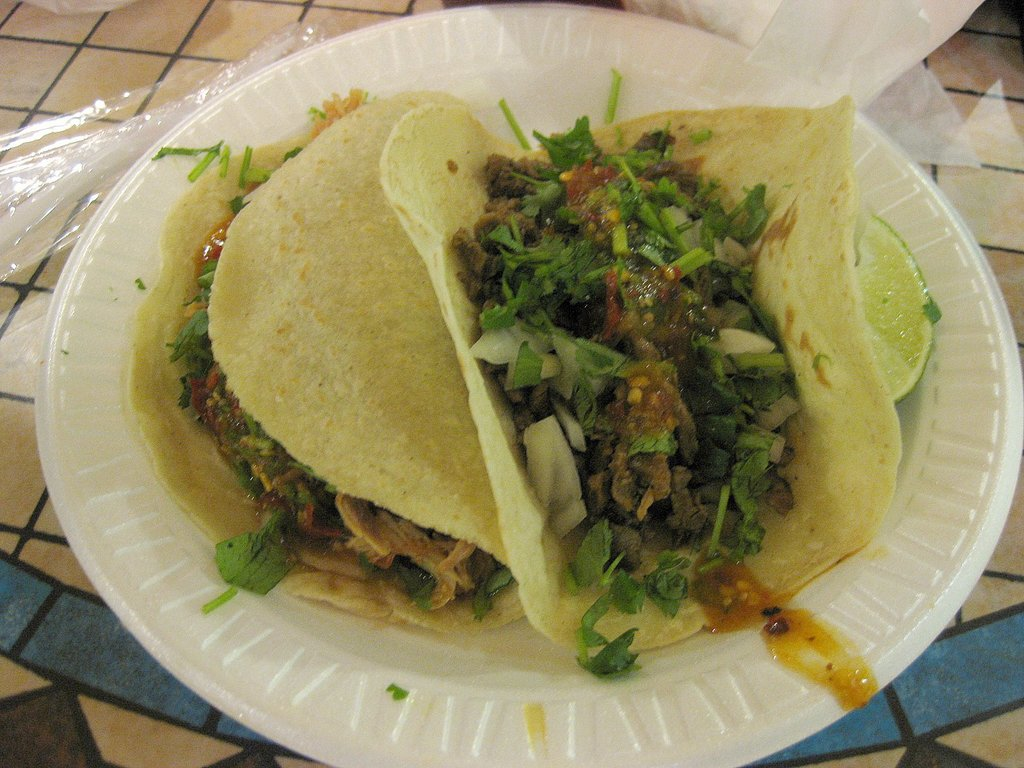taco: (379, 95, 905, 657), (112, 89, 539, 642)
